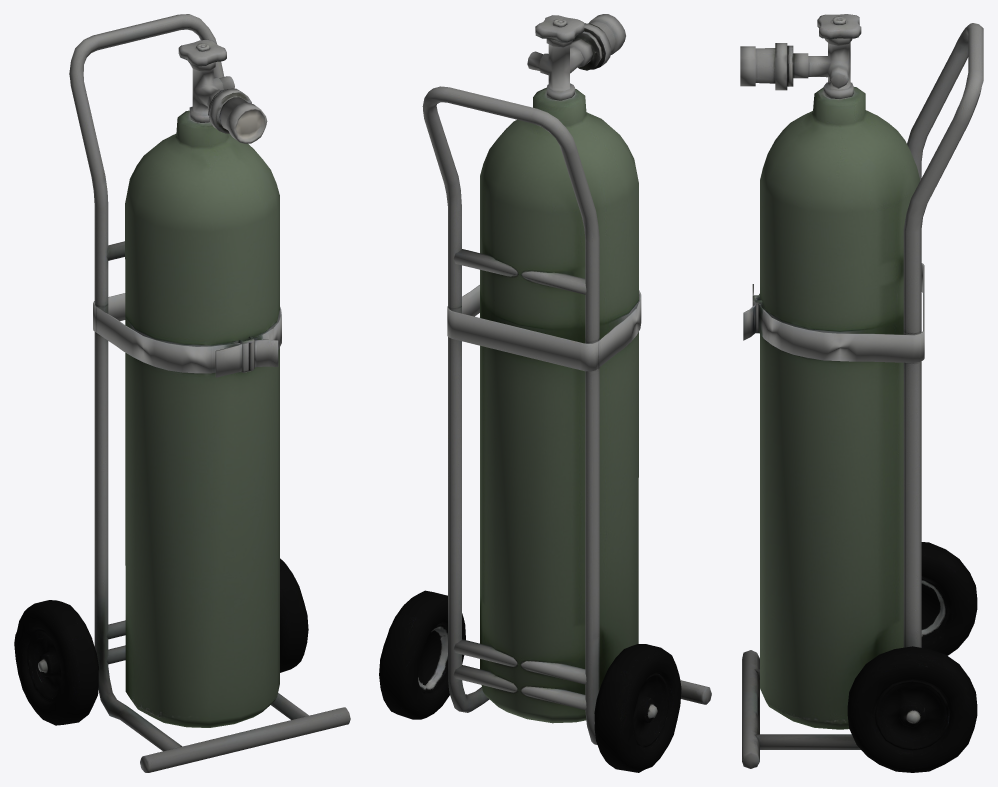
File: upa_oxigenio.glb
3 views of the same model, side by side, from view 1: azimuth 30°, elevation 25°; view 2: azimuth 150°, elevation 25°; view 3: azimuth 270°, elevation 25° (orthographic). The views are drawn at different scales.
Parts seen in each view (by area): view 1: upa_oxigenio – Oxygen Cylinder Trolley; view 2: upa_oxigenio – Oxygen Cylinder Trolley; view 3: upa_oxigenio – Oxygen Cylinder Trolley.
Boxes of the visible parts, x1,y1,x2,y2 form: upa_oxigenio – Oxygen Cylinder Trolley: (14, 14, 350, 772); upa_oxigenio – Oxygen Cylinder Trolley: (379, 14, 711, 772); upa_oxigenio – Oxygen Cylinder Trolley: (740, 14, 983, 772).
Bounding box in the file's own units: 0.4721 × 1.25 × 0.3938.
Materials: 1 (1 with a texture image).
